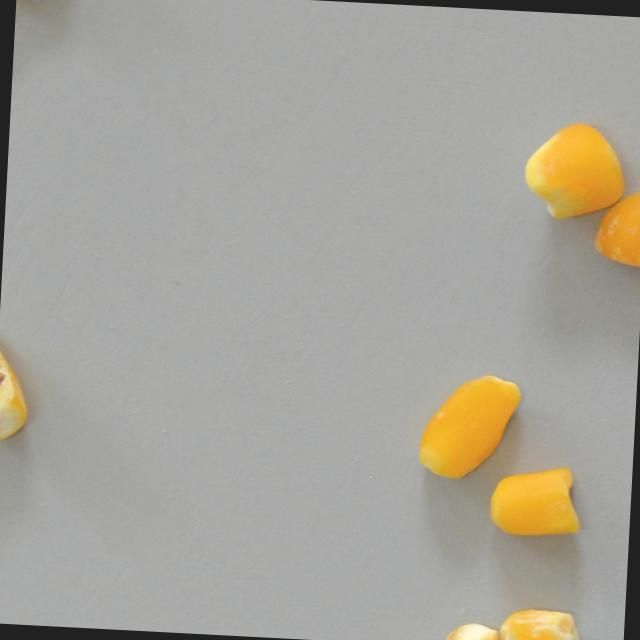dañado: (412, 368, 524, 485), (589, 180, 640, 276), (0, 316, 37, 445), (495, 603, 596, 640)
estandar: (482, 460, 587, 543)
no_canjicado: (519, 118, 633, 224)
punto_negro: (424, 618, 501, 640)
